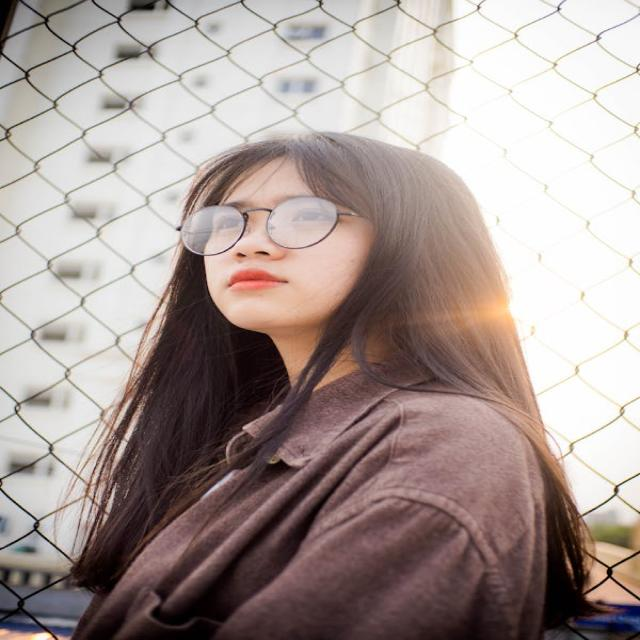no_mask: (171, 137, 492, 417)
